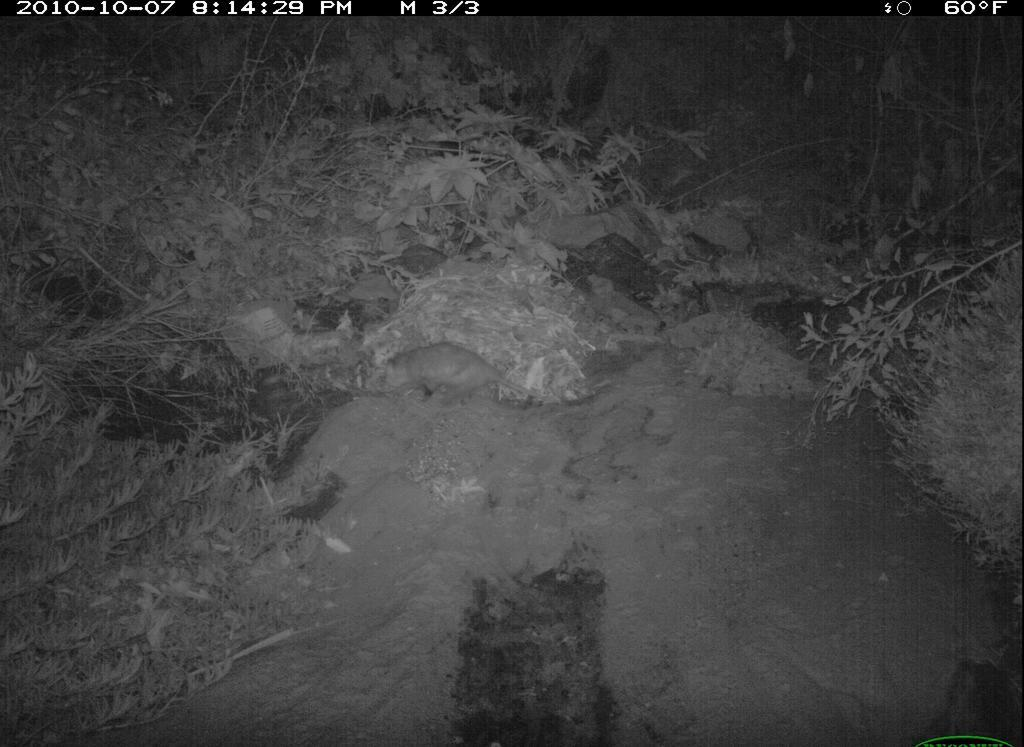opossum: (374, 313, 527, 427)
